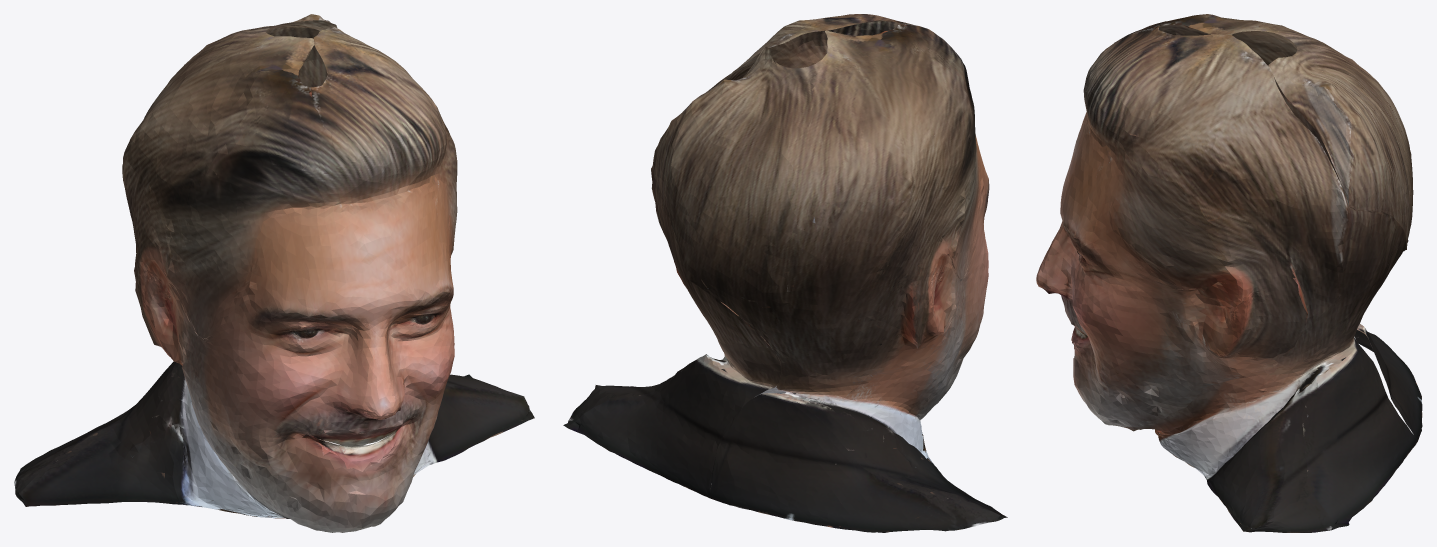
3 views of the same model, side by side, from view 1: azimuth 30°, elevation 25°; view 2: azimuth 150°, elevation 25°; view 3: azimuth 270°, elevation 25° (orthographic). The views are drawn at different scales.
Size of the model in its own units: 1.8 by 1.6 by 1.4.
Materials: 1 (1 with a texture image).
